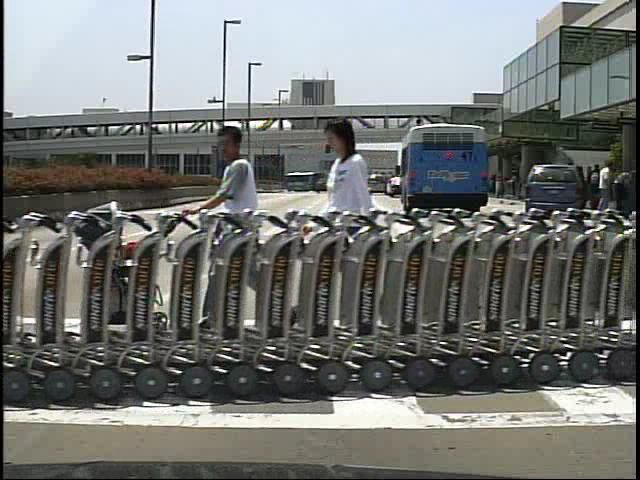person: (192, 121, 276, 347), (318, 116, 389, 349), (595, 161, 616, 211), (586, 163, 604, 214)
